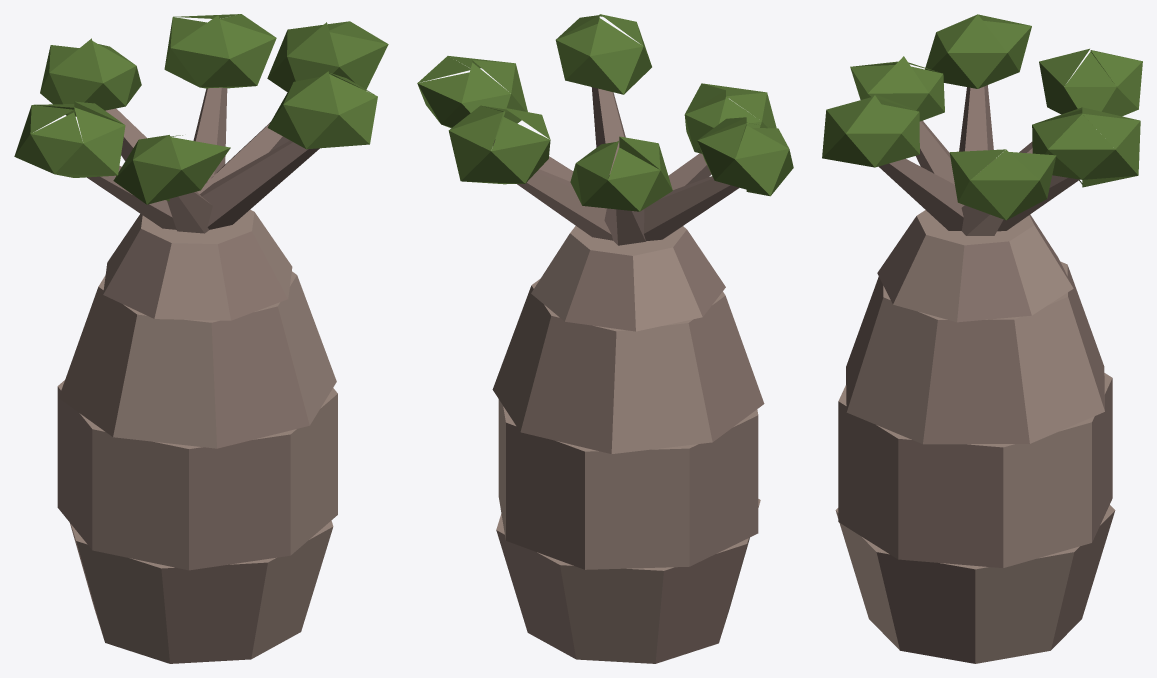
The model's file is boab.glb.
3 renders of one model, left to right at view 1: azimuth 30°, elevation 25°; view 2: azimuth 150°, elevation 25°; view 3: azimuth 270°, elevation 25°, orthographic. The views are drawn at different scales.
Parts seen in each view (by area): view 1: boab2; view 2: boab2; view 3: boab2.
Part boxes in pixels (box(x1,y1,x2,y2)): boab2: box(14, 14, 388, 663); boab2: box(417, 14, 793, 663); boab2: box(822, 14, 1142, 663).
Bounding box in the file's own units: 3.09 × 4.67 × 2.41.
